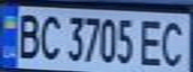0: (100, 15, 118, 64)
3: (63, 12, 84, 62)
5: (115, 15, 139, 65)
7: (81, 14, 100, 63)
B: (9, 9, 42, 60)
C: (157, 16, 190, 69), (36, 11, 63, 61)
E: (136, 17, 166, 68)
